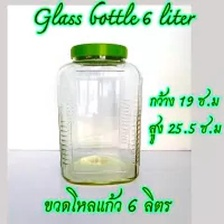bottle: (50, 39, 143, 190)
